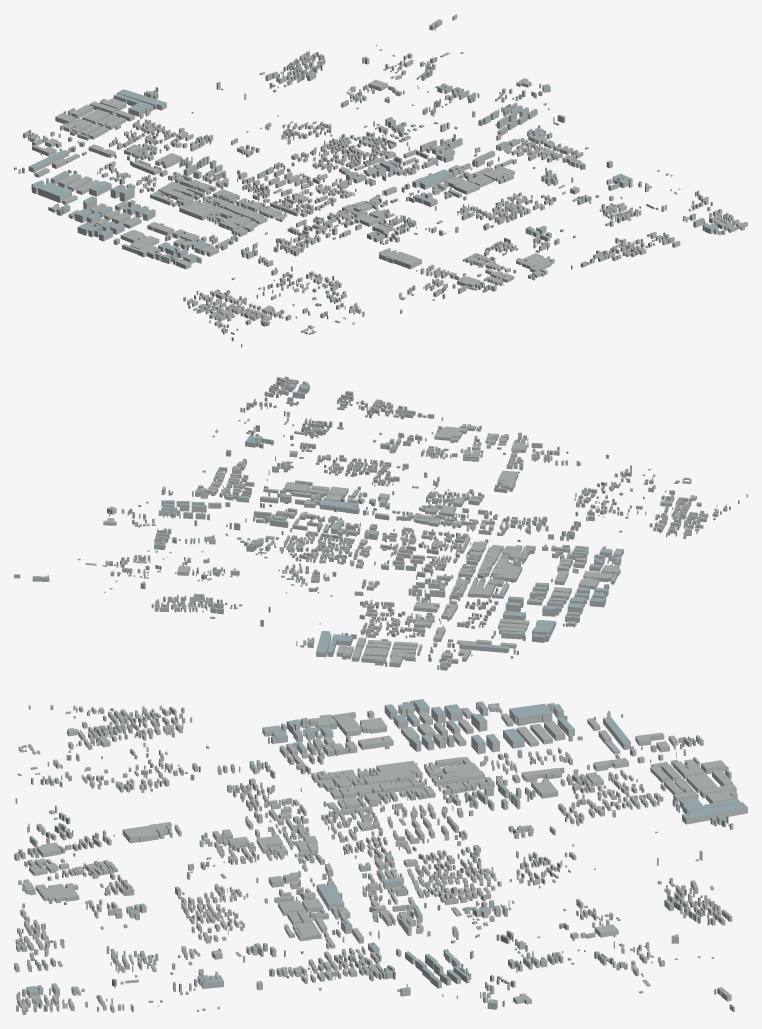
The model's file is far.glb.
3 views of the same model, one above another, from view 1: azimuth 30°, elevation 25°; view 2: azimuth 150°, elevation 25°; view 3: azimuth 270°, elevation 25° (orthographic). The views are drawn at different scales.
Size of the model in its own units: 2134 by 34.79 by 2145.
